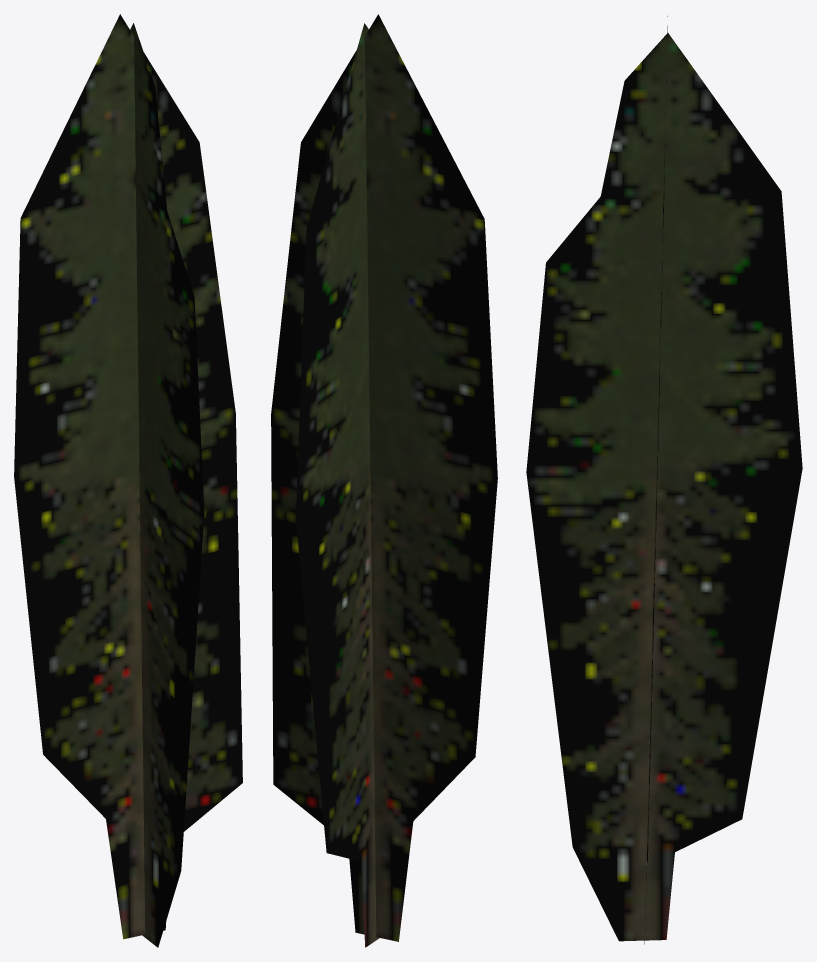
The model's file is spruce-med-4-cross.glb.
The picture shows the model from 3 angles, left to right: view 1: azimuth 30°, elevation 25°; view 2: azimuth 150°, elevation 25°; view 3: azimuth 270°, elevation 25°; orthographic projection. The views are drawn at different scales.
Visible parts, largest first — view 1: world; view 2: world; view 3: world.
Part boxes in pixels (x1,y1,x2,y2): world: (14,14,242,947); world: (271,14,497,947); world: (526,16,802,944).
Bounding box in the file's own units: 5.91 × 23.13 × 6.29.
1 material, 1 textured.
